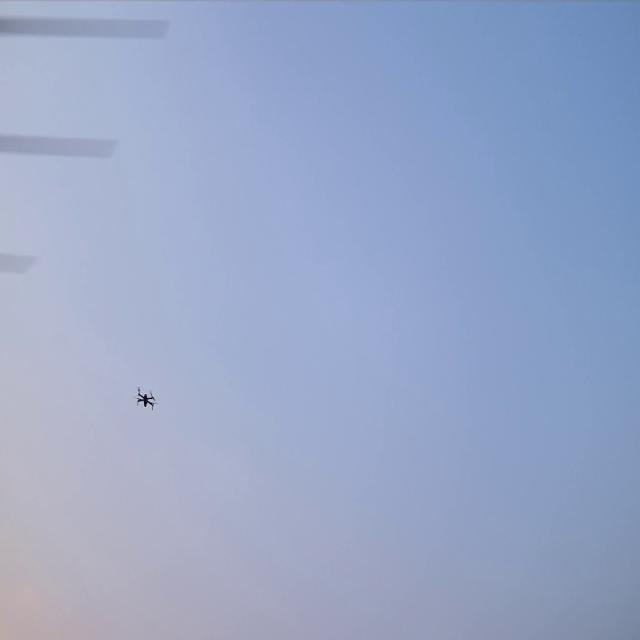UAV: (132, 384, 160, 412)
